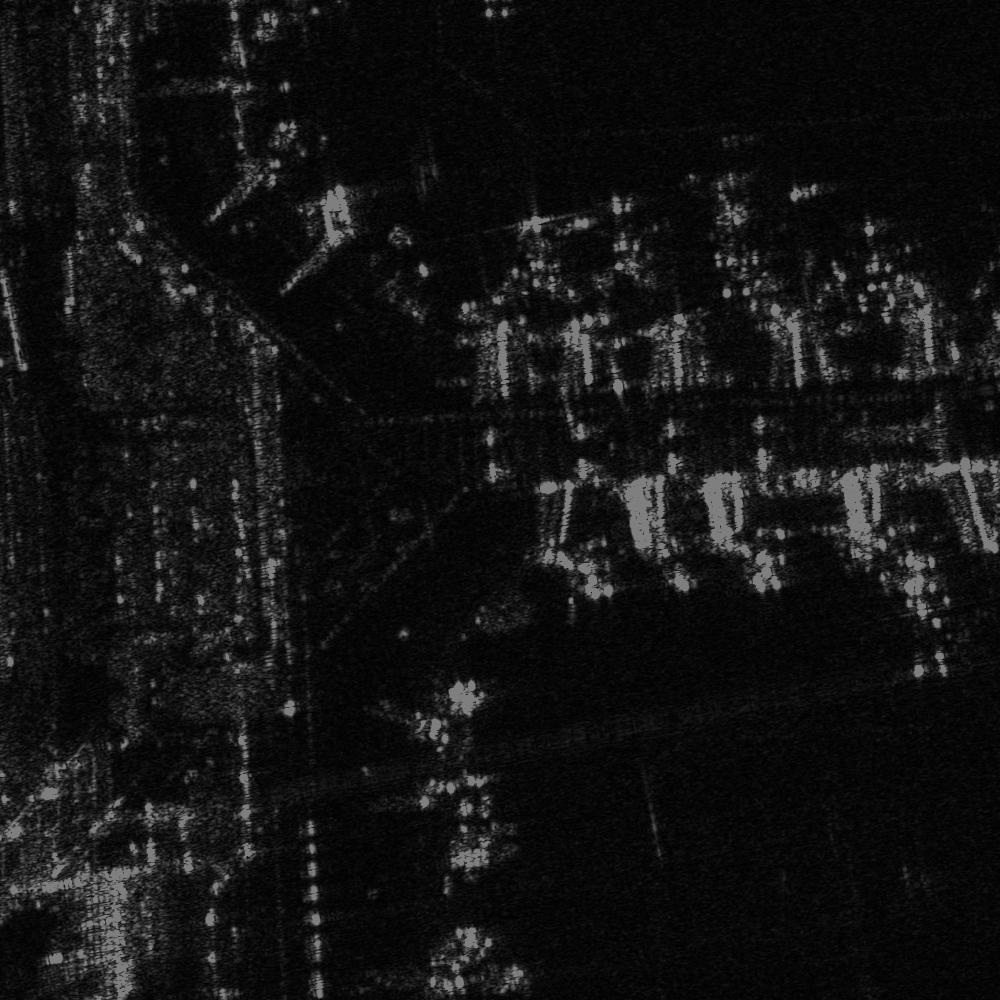A220: (491, 205, 570, 306)
A320/321: (860, 570, 984, 686), (693, 162, 786, 307), (829, 208, 942, 297)
other: (574, 182, 689, 303)
